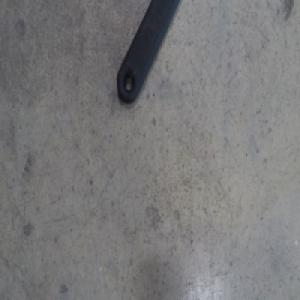AdjustableWrench: (117, 0, 178, 102)
